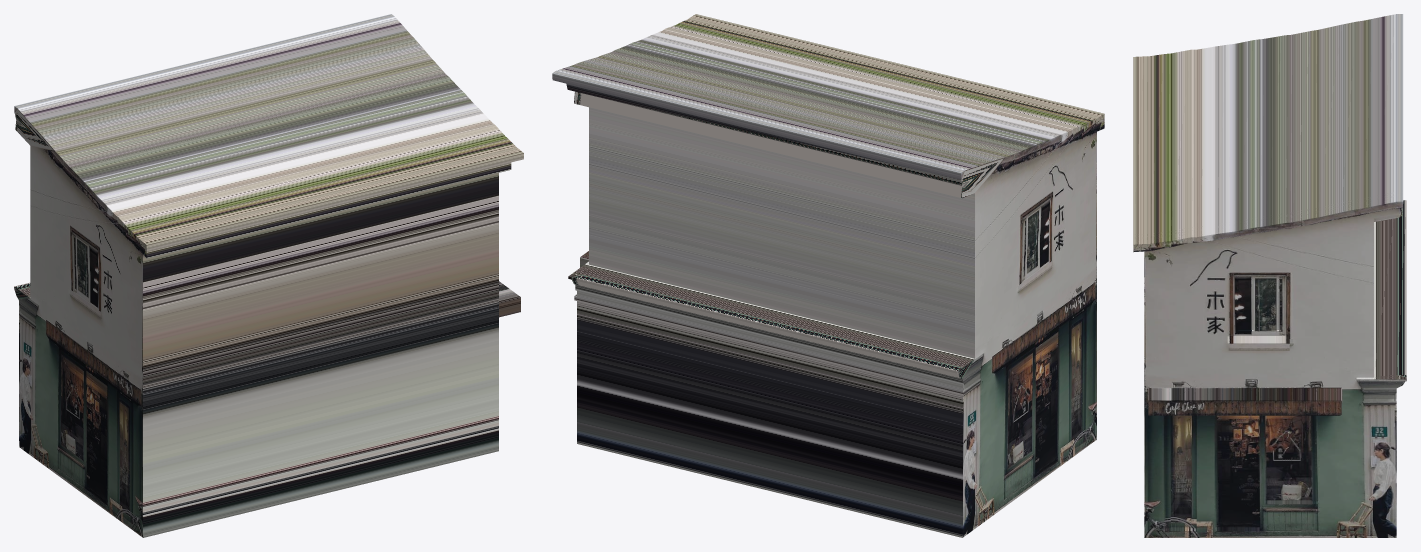
File: building 12_11-01-FINISHED.glb
The picture shows the model from 3 angles, left to right: view 1: azimuth 30°, elevation 25°; view 2: azimuth 150°, elevation 25°; view 3: azimuth 270°, elevation 25°; orthographic projection. The views are drawn at different scales.
Parts seen in each view (by area): view 1: Empty.001; view 2: Empty.001; view 3: Empty.001.
Part boxes in pixels (x1,y1,x2,y2): Empty.001: [14, 14, 523, 537]; Empty.001: [552, 14, 1104, 537]; Empty.001: [1133, 14, 1406, 537].
Bounding box in the file's own units: 4.97 × 4.22 × 3.02.
1 material, 1 textured.
